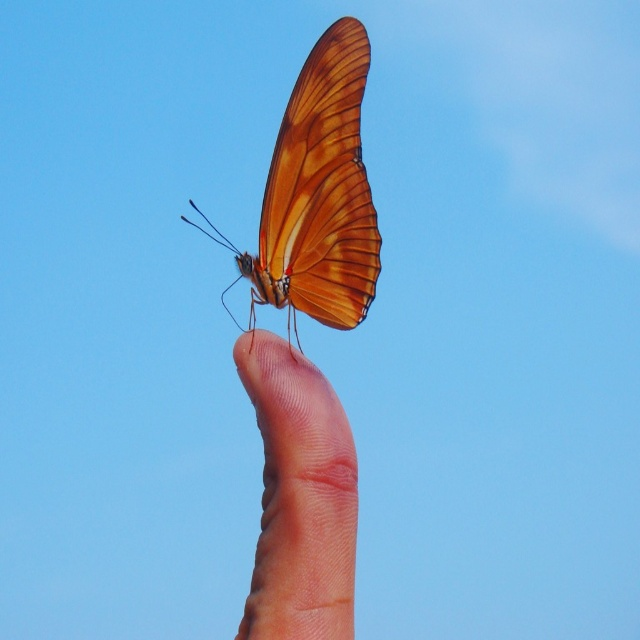Butterfly: (176, 11, 390, 370)
